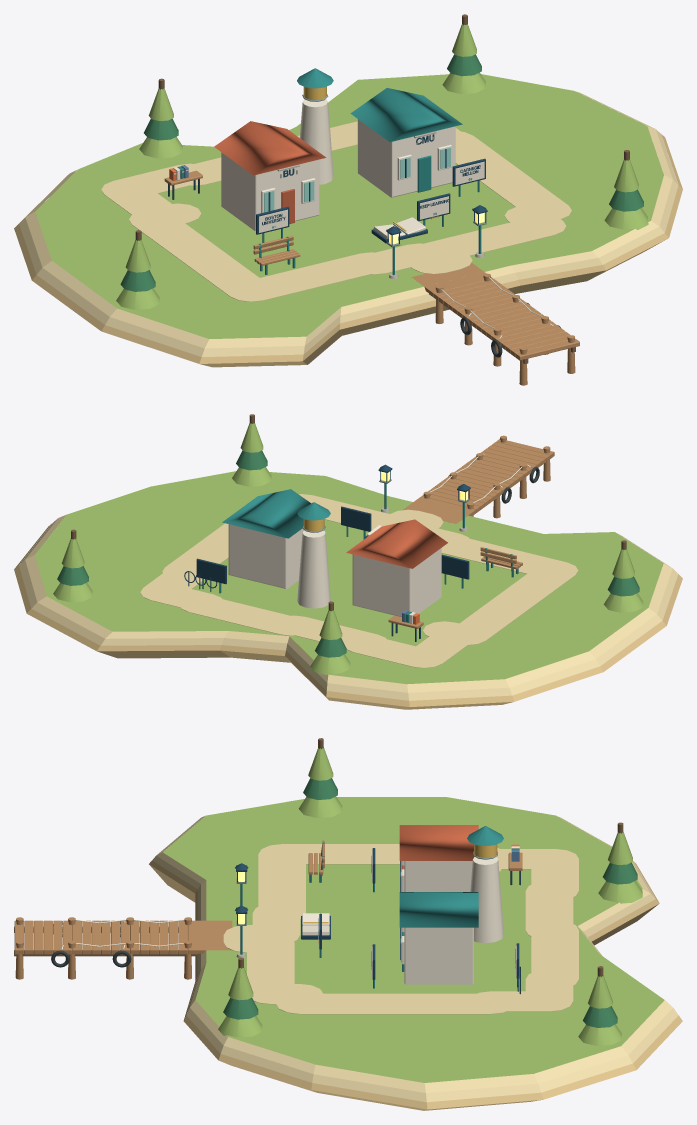
The model's file is learning.glb.
3 views of the same model, one above another, from view 1: azimuth 30°, elevation 25°; view 2: azimuth 150°, elevation 25°; view 3: azimuth 270°, elevation 25° (orthographic). The views are drawn at different scales.
Visible parts, largest first — view 1: static_grass, static_sand, static_ivory, static_wood, static_sandEdge, occluder_learning_CMU_roof_teal, occluder_learning_BU_roof_terracotta, static_teal, occluder_learning_tree_16_grass, occluder_learning_tree_4_grass, occluder_learning_tree_12_grass, occluder_learning_tree_8_grass (+6 smaller); view 2: static_grass, static_sand, static_ivory, static_sandEdge, static_wood, occluder_learning_BU_roof_terracotta, occluder_learning_CMU_roof_teal, occluder_learning_tree_8_grass, occluder_learning_tree_16_grass, occluder_learning_tree_4_grass, occluder_learning_tree_12_grass, static_teal (+8 smaller); view 3: static_grass, static_sand, static_ivory, static_wood, static_sandEdge, occluder_learning_CMU_roof_teal, occluder_learning_BU_roof_terracotta, occluder_learning_tree_8_grass, occluder_learning_tree_16_grass, occluder_learning_tree_4_grass, occluder_learning_tree_12_grass, static_teal (+6 smaller).
Boxes of the visible parts, bbox=[...] form: static_grass: bbox=[35, 74, 663, 338]; static_sand: bbox=[19, 91, 678, 356]; static_ivory: bbox=[173, 99, 553, 338]; static_wood: bbox=[164, 170, 579, 385]; static_sandEdge: bbox=[14, 134, 682, 367]; occluder_learning_CMU_roof_teal: bbox=[350, 88, 462, 141]; occluder_learning_BU_roof_terracotta: bbox=[214, 121, 326, 175]; static_teal: bbox=[177, 68, 481, 275]; occluder_learning_tree_16_grass: bbox=[604, 159, 648, 229]; occluder_learning_tree_4_grass: bbox=[116, 240, 159, 309]; occluder_learning_tree_12_grass: bbox=[442, 24, 485, 94]; occluder_learning_tree_8_grass: bbox=[139, 88, 182, 158]; static_grass: bbox=[35, 471, 663, 684]; static_sand: bbox=[19, 494, 678, 700]; static_ivory: bbox=[228, 454, 530, 623]; static_sandEdge: bbox=[14, 523, 682, 709]; static_wood: bbox=[388, 435, 554, 628]; occluder_learning_BU_roof_terracotta: bbox=[346, 519, 447, 568]; occluder_learning_CMU_roof_teal: bbox=[222, 489, 310, 538]; occluder_learning_tree_8_grass: bbox=[310, 610, 350, 674]; occluder_learning_tree_16_grass: bbox=[232, 423, 271, 486]; occluder_learning_tree_4_grass: bbox=[603, 549, 643, 612]; occluder_learning_tree_12_grass: bbox=[53, 538, 92, 602]; static_teal: bbox=[297, 483, 518, 622]; static_grass: bbox=[163, 797, 664, 1082]; static_sand: bbox=[152, 815, 678, 1102]; static_ivory: bbox=[61, 846, 519, 984]; static_wood: bbox=[14, 840, 522, 979]; static_sandEdge: bbox=[149, 860, 682, 1110]; occluder_learning_CMU_roof_teal: bbox=[399, 892, 478, 927]; occluder_learning_BU_roof_terracotta: bbox=[399, 825, 478, 860]; occluder_learning_tree_8_grass: bbox=[598, 832, 642, 903]; occluder_learning_tree_16_grass: bbox=[218, 967, 262, 1037]; occluder_learning_tree_4_grass: bbox=[298, 747, 342, 818]; occluder_learning_tree_12_grass: bbox=[578, 975, 621, 1045]; static_teal: bbox=[240, 826, 519, 971].
Bounding box in the file's own units: 31 × 6.68 × 28.8.
